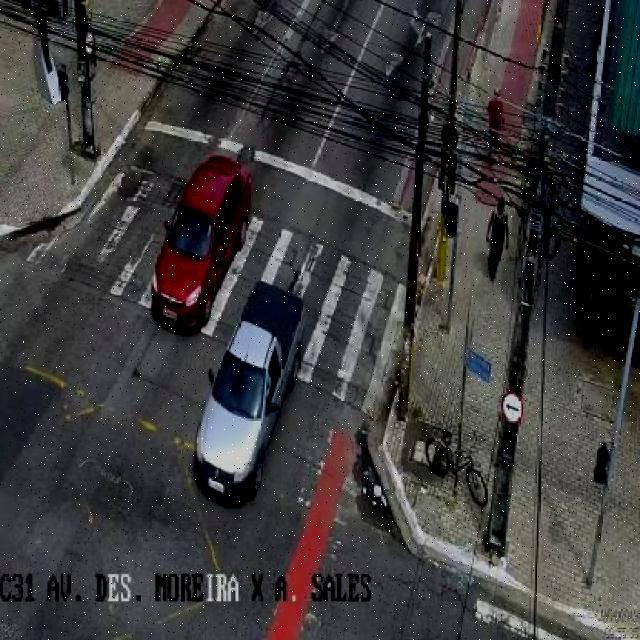Car: (147, 152, 254, 329)
Cycle: (424, 429, 489, 506)
Truck: (191, 280, 309, 506)
